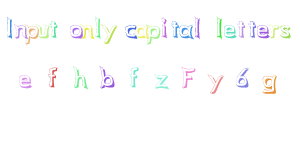6: (230, 61, 256, 92)
F: (175, 57, 200, 97)
I: (2, 13, 18, 43)
a: (133, 21, 149, 41), (178, 22, 193, 40)
b: (95, 59, 119, 93)
c: (122, 15, 138, 43)
e: (12, 67, 38, 94), (223, 20, 237, 40), (256, 23, 269, 42)
f: (39, 59, 65, 92), (124, 62, 144, 93)
g: (256, 71, 286, 100)
h: (67, 63, 93, 94)
i: (158, 14, 168, 39)
l: (211, 10, 224, 39), (192, 12, 204, 41), (93, 12, 103, 40)
n: (79, 22, 95, 44), (13, 21, 29, 41)
o: (68, 21, 84, 41)
p: (24, 23, 40, 48), (146, 21, 161, 46)
r: (269, 20, 280, 40)
s: (279, 20, 293, 44)
t: (48, 16, 63, 40), (236, 17, 247, 43), (246, 15, 257, 41), (168, 17, 179, 39)
u: (37, 23, 50, 40)
y: (202, 68, 229, 98), (101, 23, 117, 46)
z: (149, 68, 175, 96)
